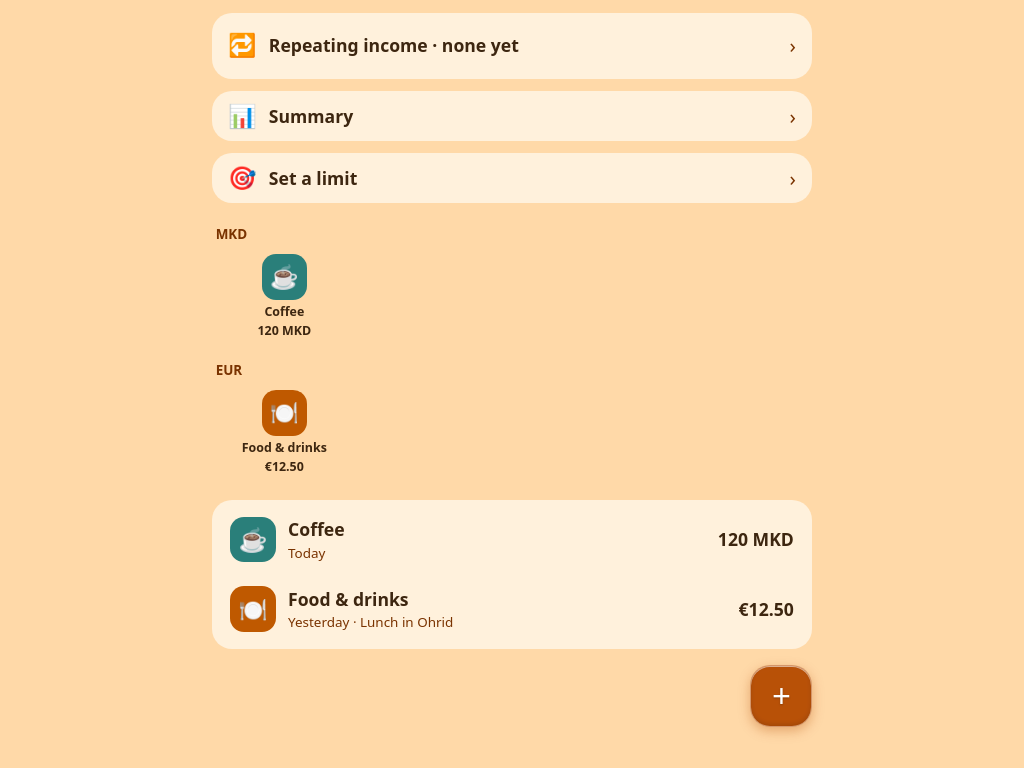
Scenario: The edit sheet of a merged entry › saving an edit of an entry that is not merged › sends the usual PUT and no request to the duplicate answers
The image size is (1024, 768).
(page scrolled)
Click the button "☕ Coffee Today 120 MKD" at coordinates (253, 540), box [218,506,806,573]
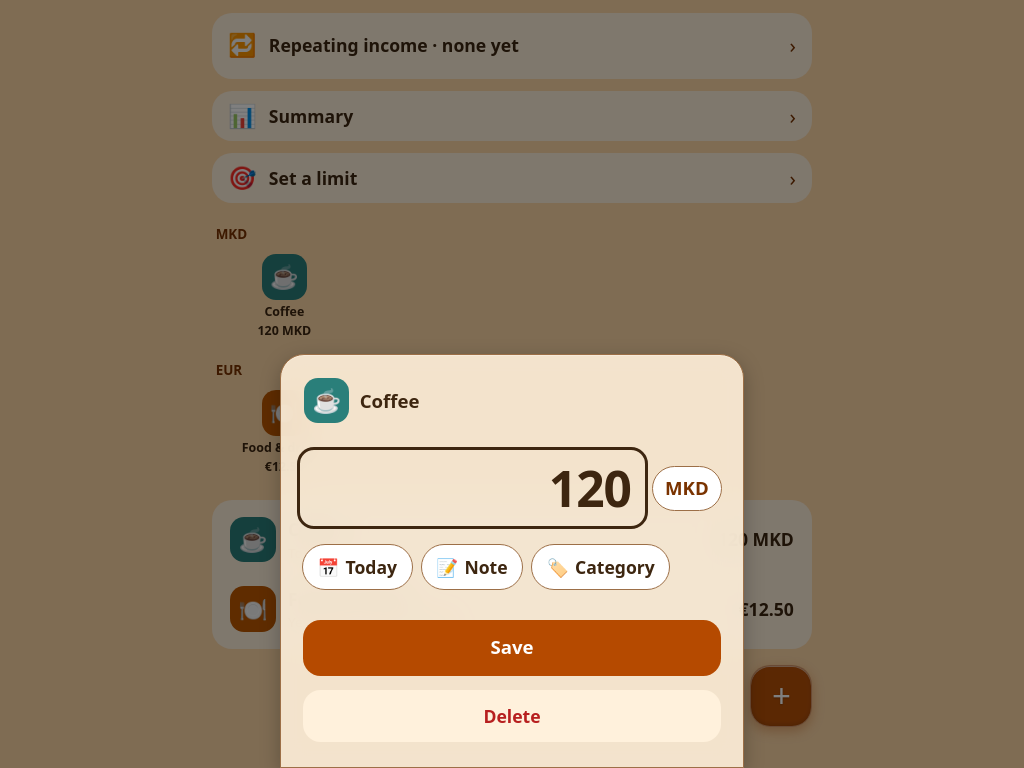
Replace the text in the field named "Amount" with "150" at coordinates (473, 488), box [300,450,646,526]
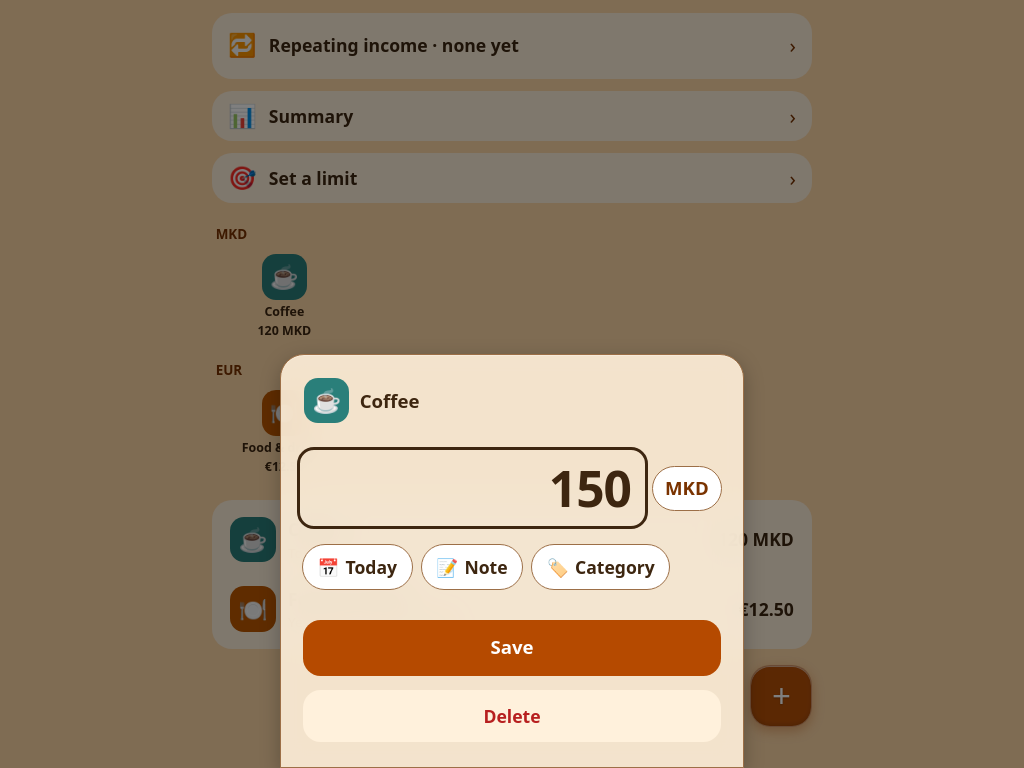
Click the button "Save" at coordinates (512, 648), box [302,619,722,677]
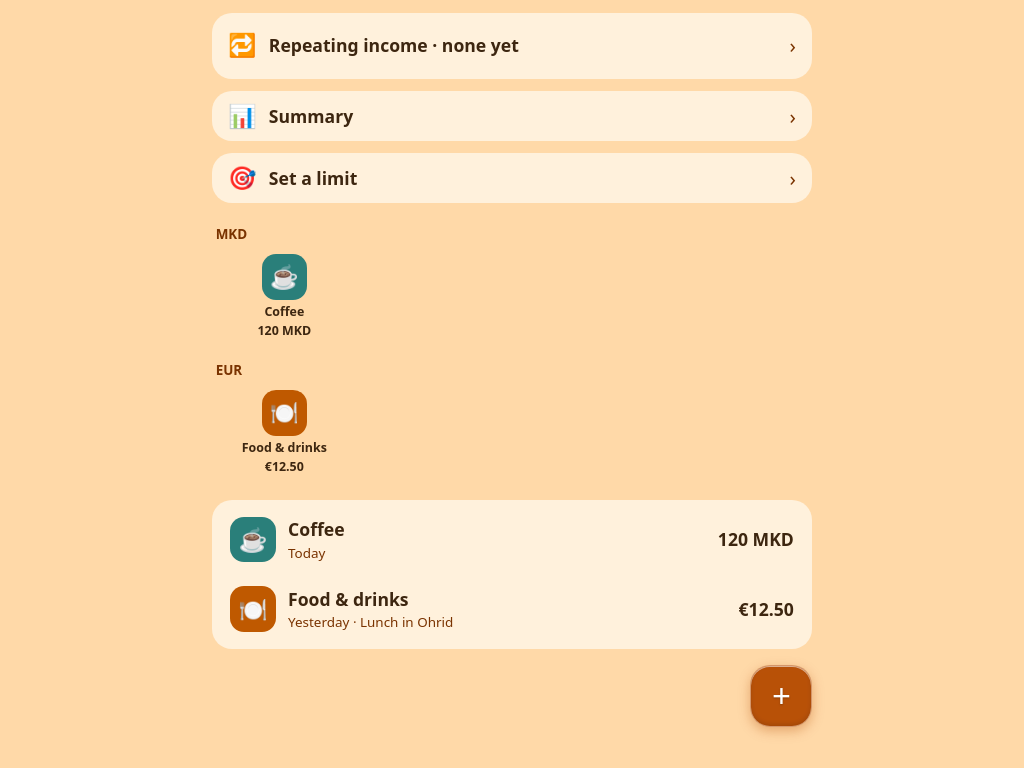
Expected: the dialog is gone
